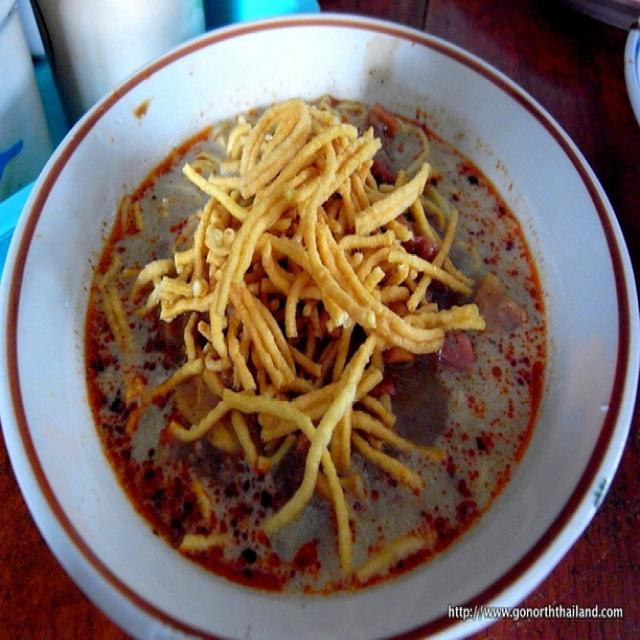面条主食: (53, 47, 588, 607)
